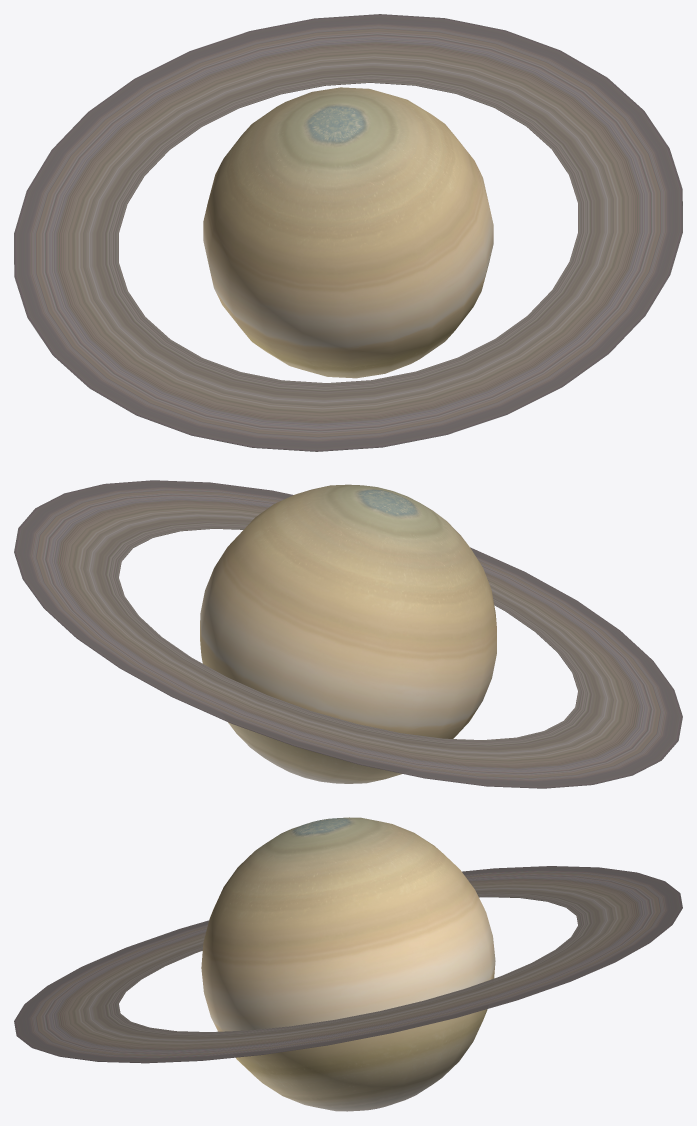
File: saturno.glb
3 views of the same model, one above another, from view 1: azimuth 30°, elevation 25°; view 2: azimuth 150°, elevation 25°; view 3: azimuth 270°, elevation 25° (orthographic). The views are drawn at different scales.
Visible parts, largest first — view 1: Ring, Saturno; view 2: Ring, Saturno; view 3: Saturno, Ring.
Part boxes in pixels (x1,y1,x2,y2): Ring: (14,14,682,451); Saturno: (203,87,493,378); Ring: (14,480,682,788); Saturno: (200,484,496,783); Saturno: (201,817,495,1111); Ring: (14,866,682,1063).
Bounding box in the file's own units: 4.53 × 1.99 × 4.54.
Materials: 2 (2 with a texture image).
